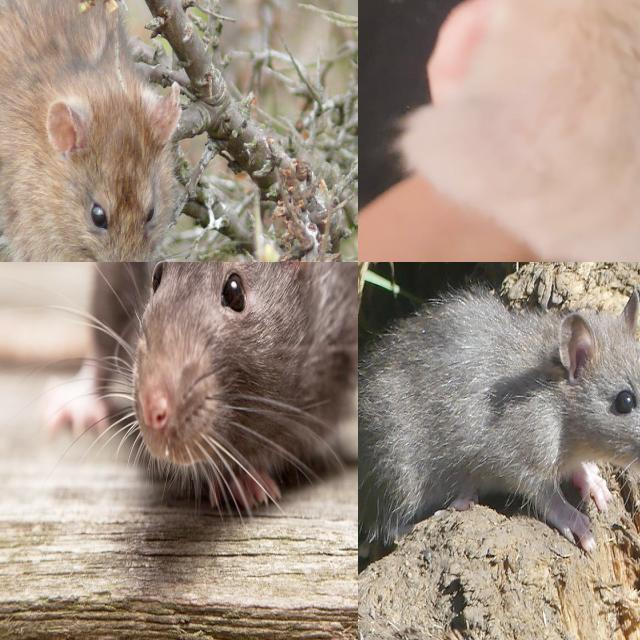rat: (364, 287, 640, 551), (42, 262, 358, 478), (403, 0, 640, 262), (0, 0, 182, 262)
